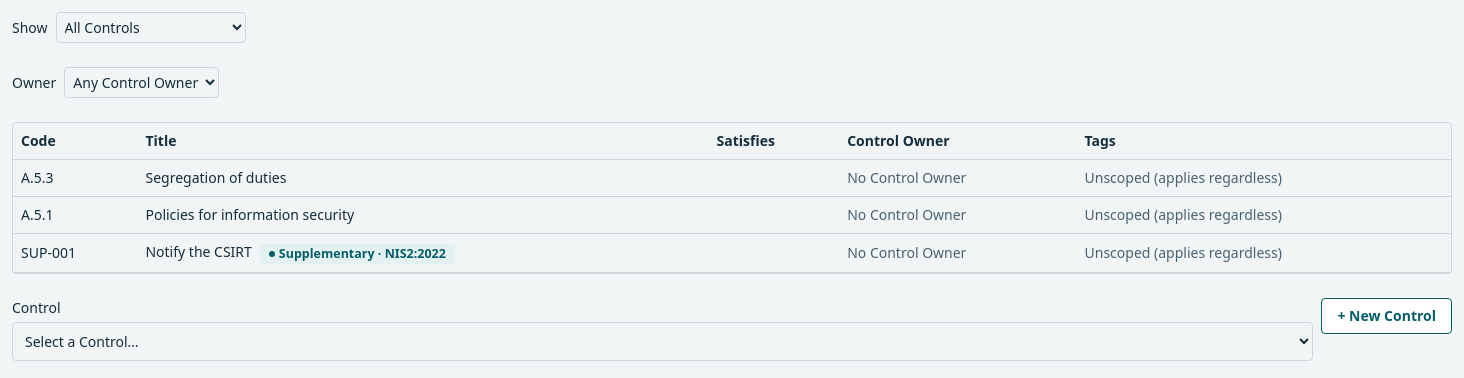
Scenario: ControlLibraryManager › marks a Supplementary Control with its origin Framework and filters base vs Supplementary
Expected: the text "Supplementary · NIS2:2022" is shown once, [260,244,455,264]
Select "Supplementary Controls" in the dropdown named "Origin filter" at (150,28), box [56,12,246,43]
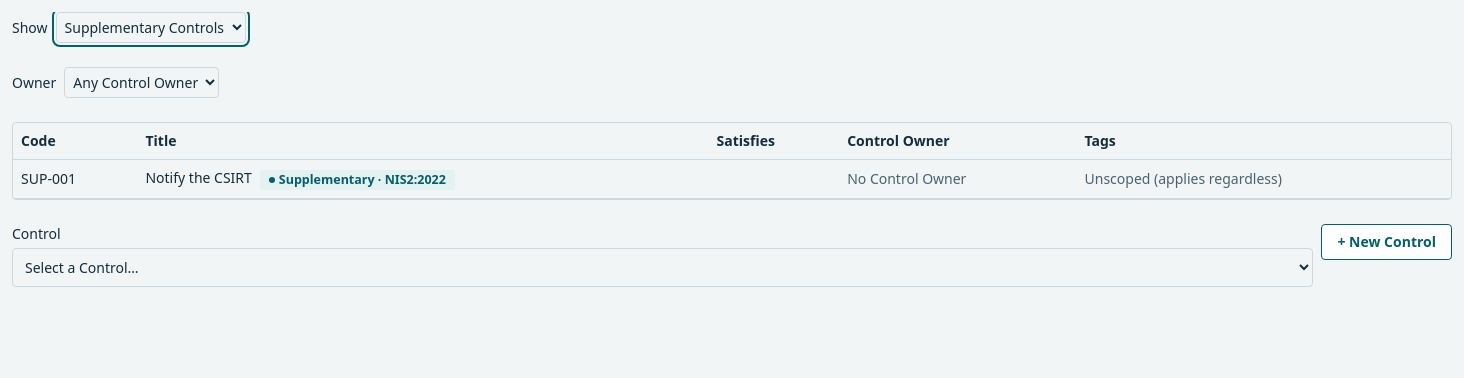
Expected: the text "SUP-001" is shown, [13,160,138,199]
Now the text "A.5.3" is gone
Now the text "A.5.1" is gone
Select "Base Controls" in the dropdown named "Origin filter" at (150,28), box [56,12,246,43]
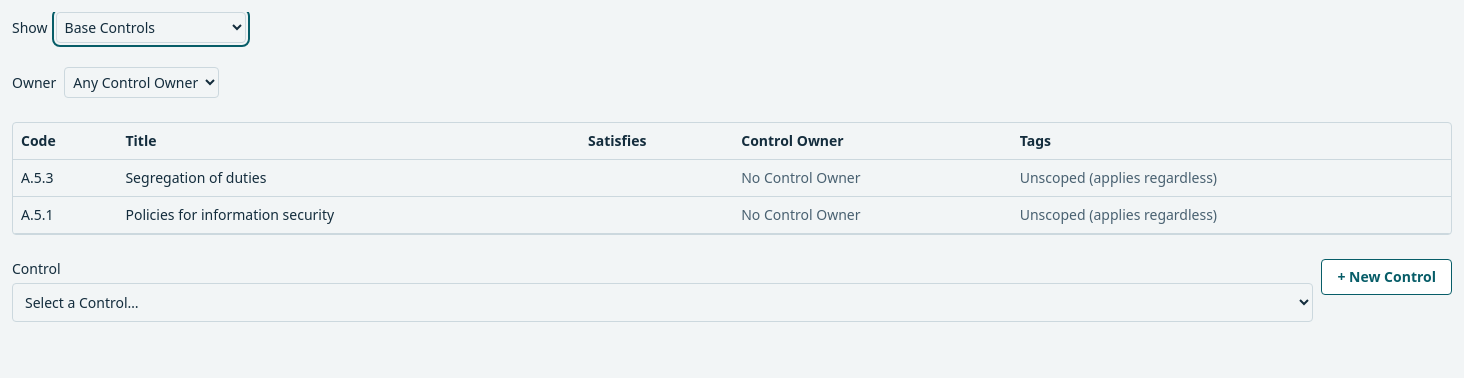
Now the text "SUP-001" is gone
Now the text "A.5.3" is shown, box [13,160,117,196]
Now the text "A.5.1" is shown, box [13,196,117,234]
Select "All Controls" in the dropdown named "Origin filter" at (150,28), box [56,12,246,43]
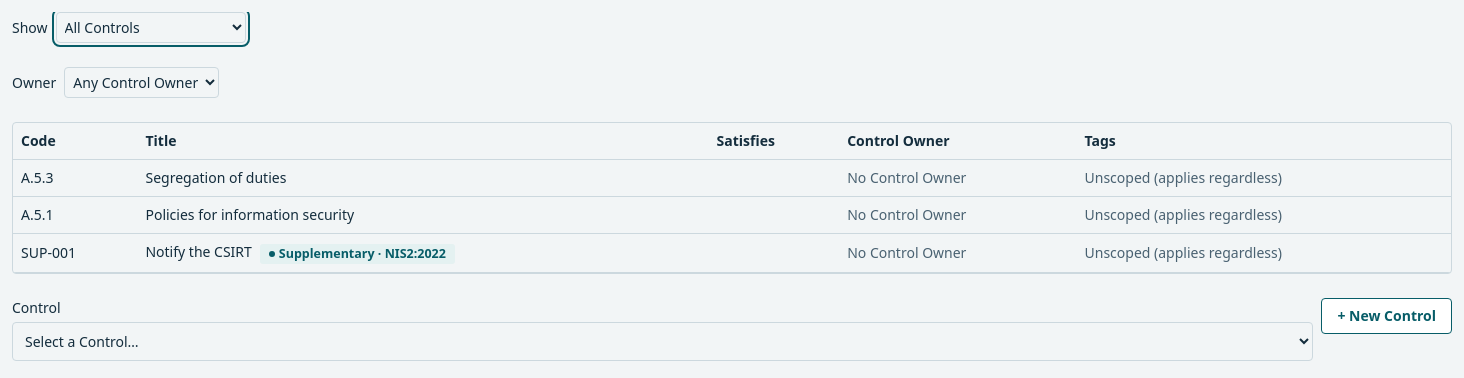
Now the text "A.5.3" is shown, box [13,160,138,196]
Now the text "SUP-001" is shown, box [13,234,138,273]
